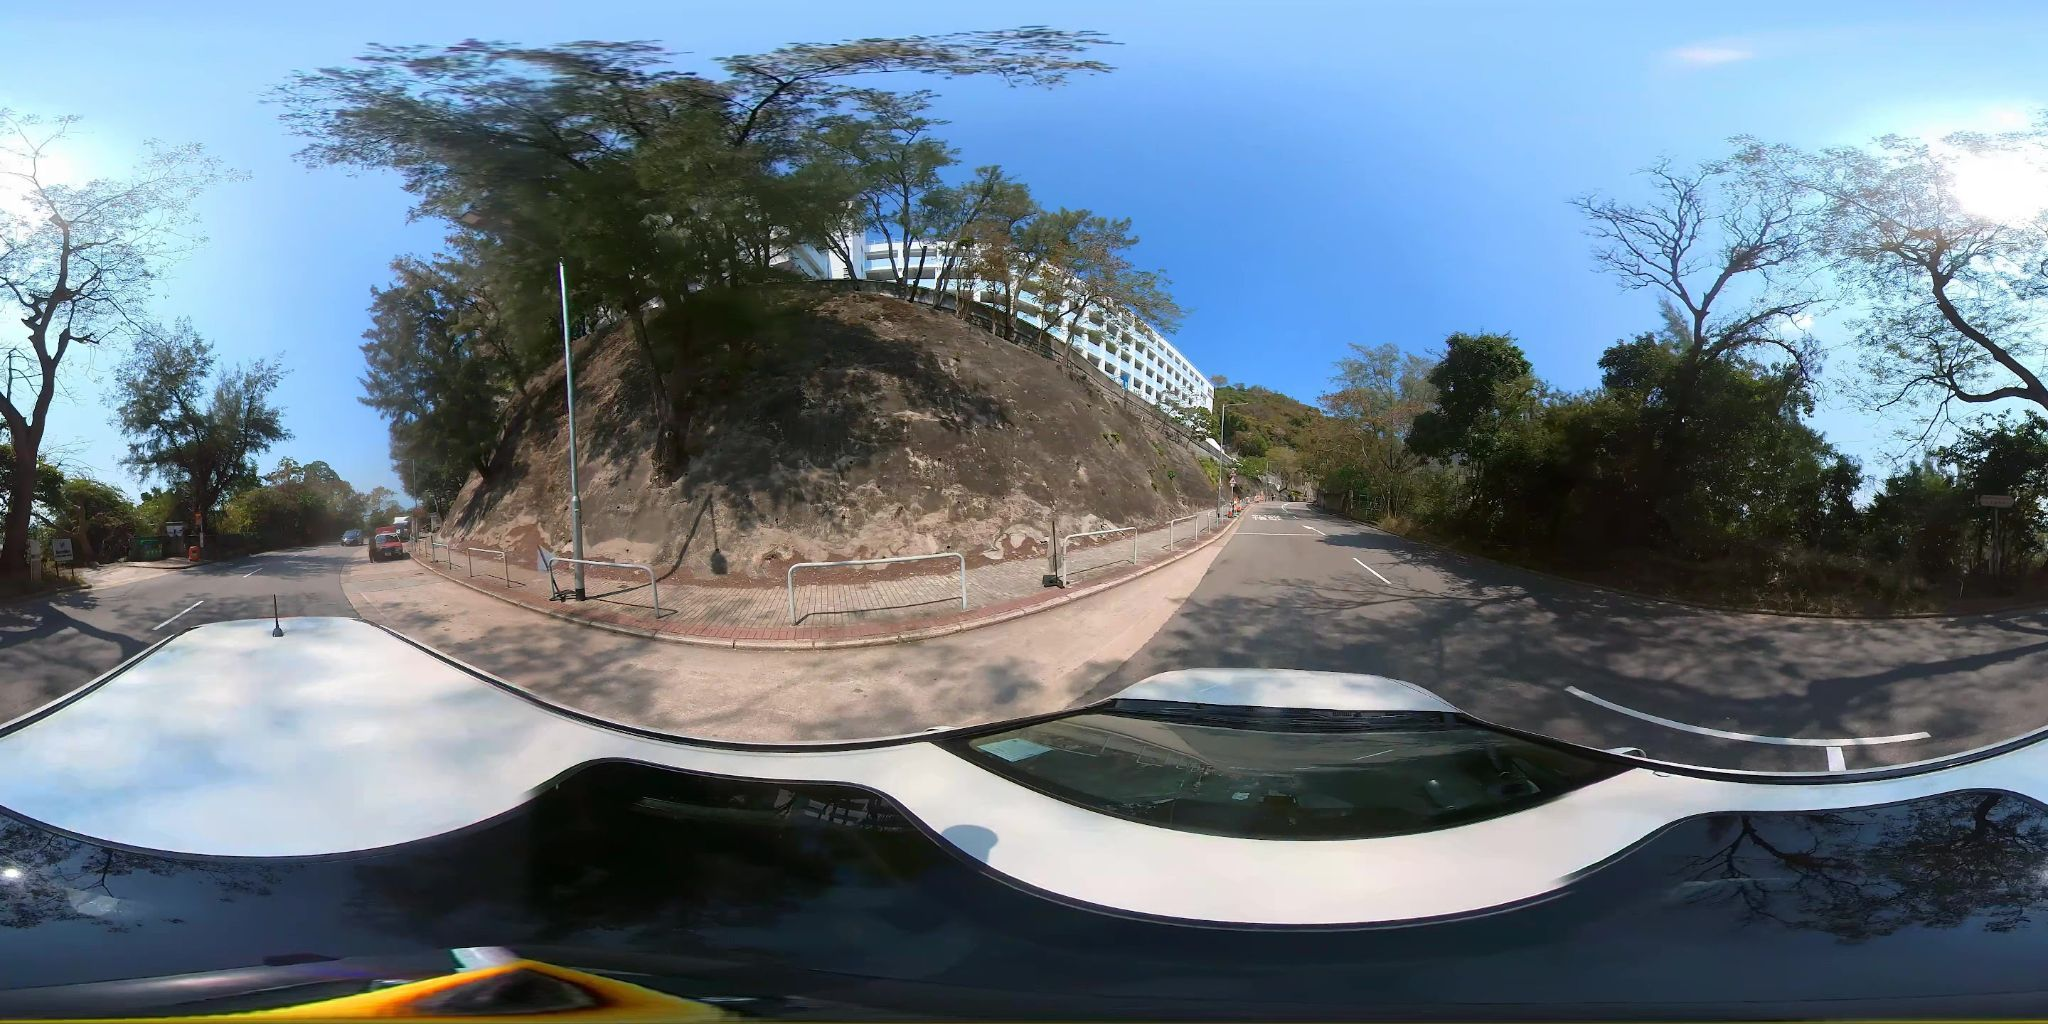SL: (452, 206, 567, 266)
